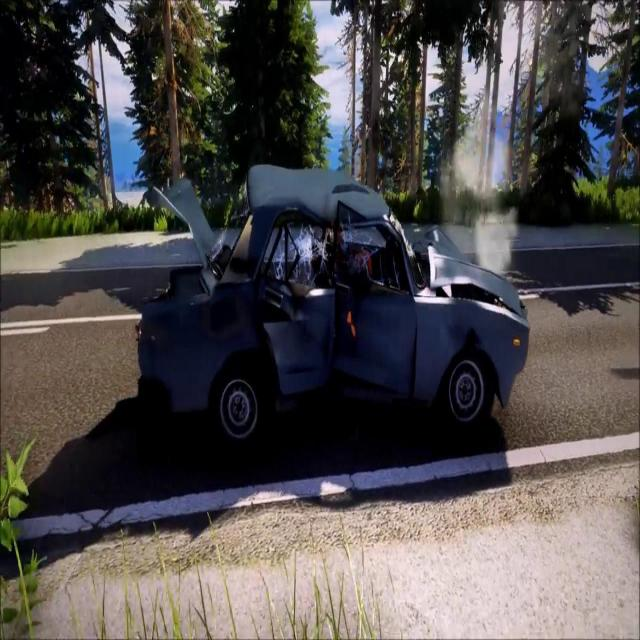accident: (135, 163, 536, 431)
